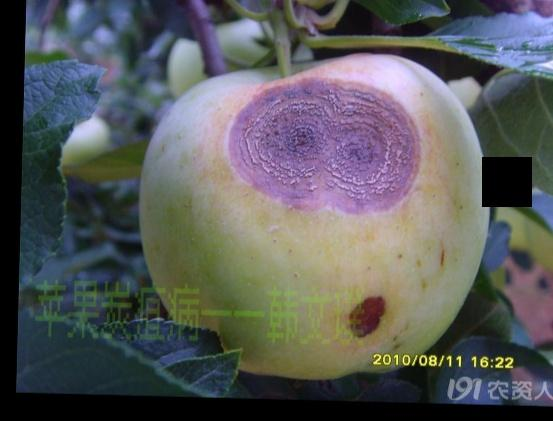rotten apple: (137, 47, 491, 385), (346, 294, 392, 342)
